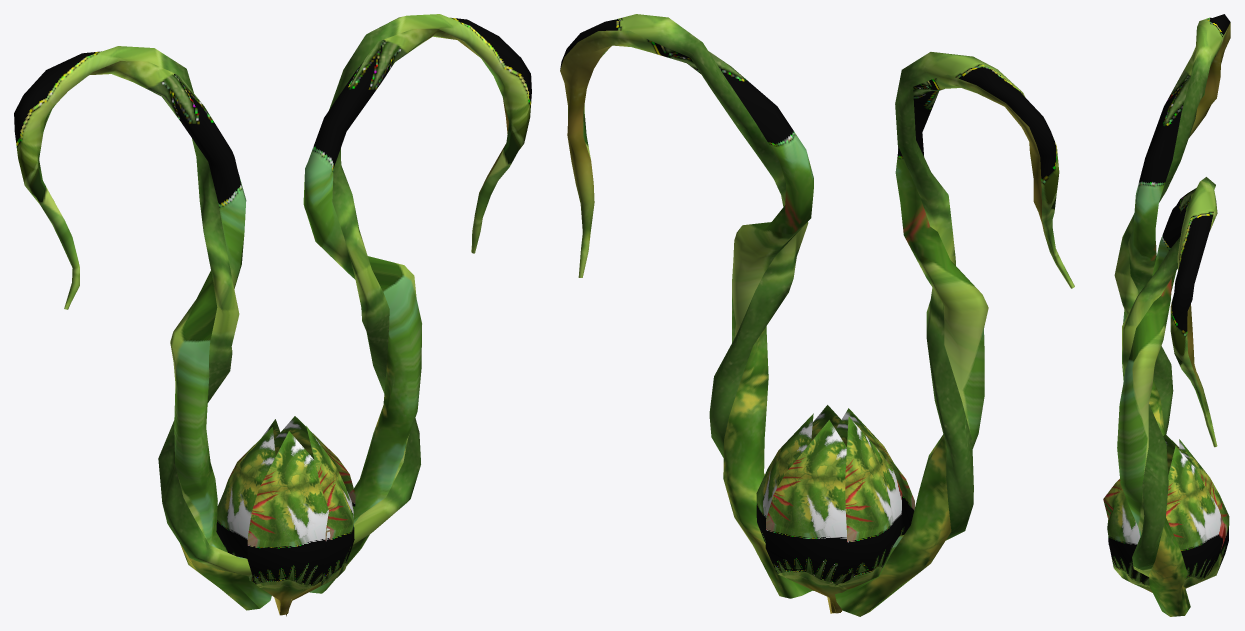
The model's file is 242-carnivora.glb.
3 renders of one model, left to right at view 1: azimuth 30°, elevation 25°; view 2: azimuth 150°, elevation 25°; view 3: azimuth 270°, elevation 25°, orthographic. The views are drawn at different scales.
Size of the model in its own units: 3.56 by 4.04 by 0.8962.
Materials: 1 (1 with a texture image).
